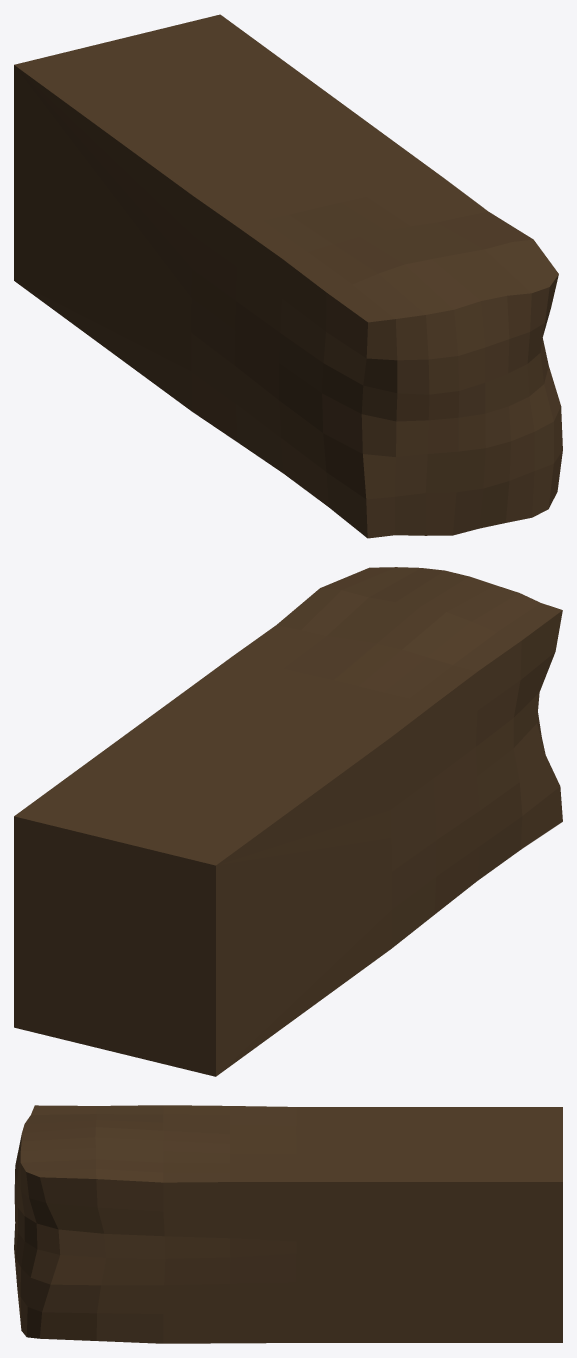
Rendered from wallSmallPlain.fbx.
3 views of the same model, one above another, from view 1: azimuth 30°, elevation 25°; view 2: azimuth 150°, elevation 25°; view 3: azimuth 270°, elevation 25° (orthographic). The views are drawn at different scales.
Parts seen in each view (by area): view 1: 1x1 wall; view 2: 1x1 wall; view 3: 1x1 wall.
Boxes of the visible parts, x1,y1,x2,y2 form: 1x1 wall: (14,14,562,538); 1x1 wall: (14,567,562,1076); 1x1 wall: (14,1105,562,1343).
Bounding box in the file's own units: 103 × 109 × 309.
